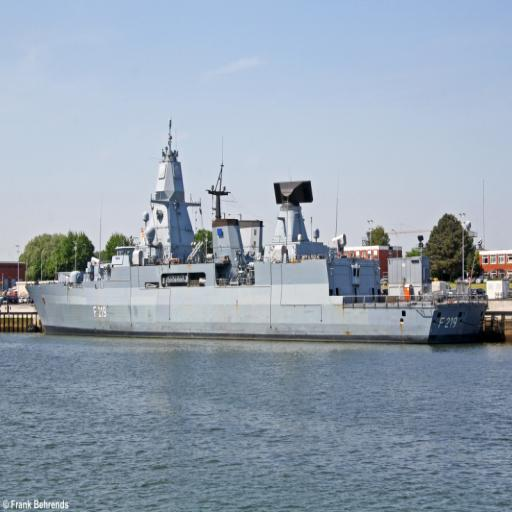Fragata: (22, 109, 490, 342)
